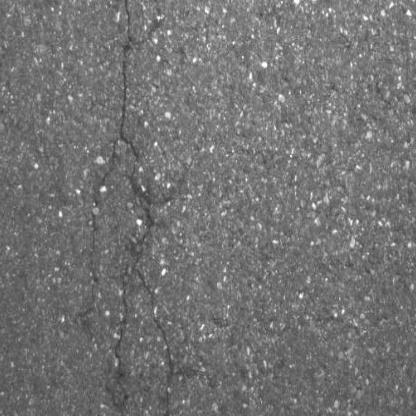Cracks: (89, 0, 182, 416)
